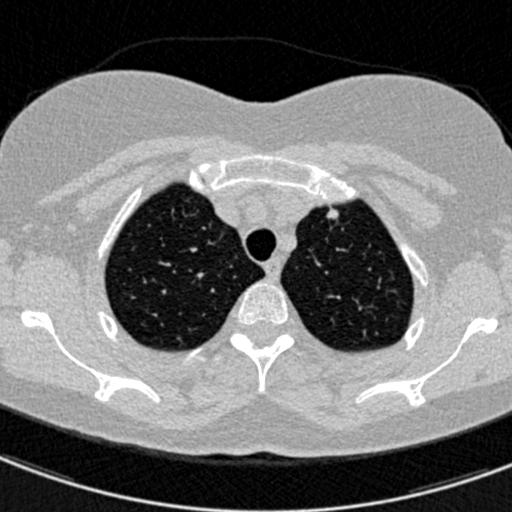nodule: (323, 204, 341, 222)
